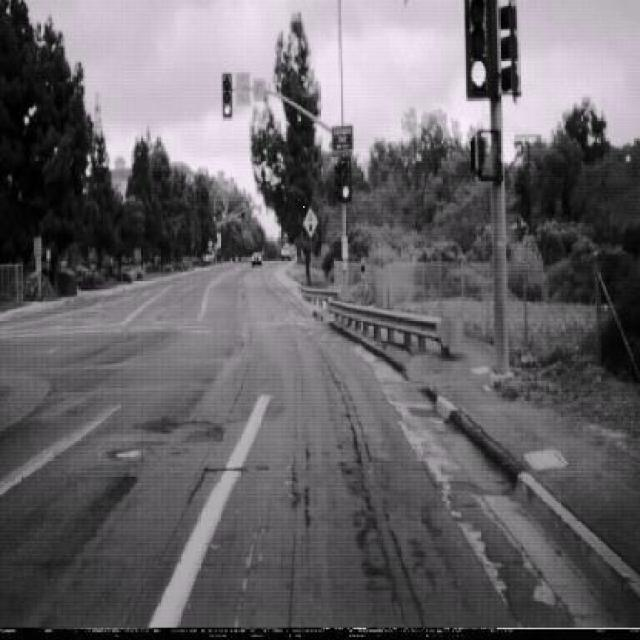signalAhead: (302, 206, 318, 239)
